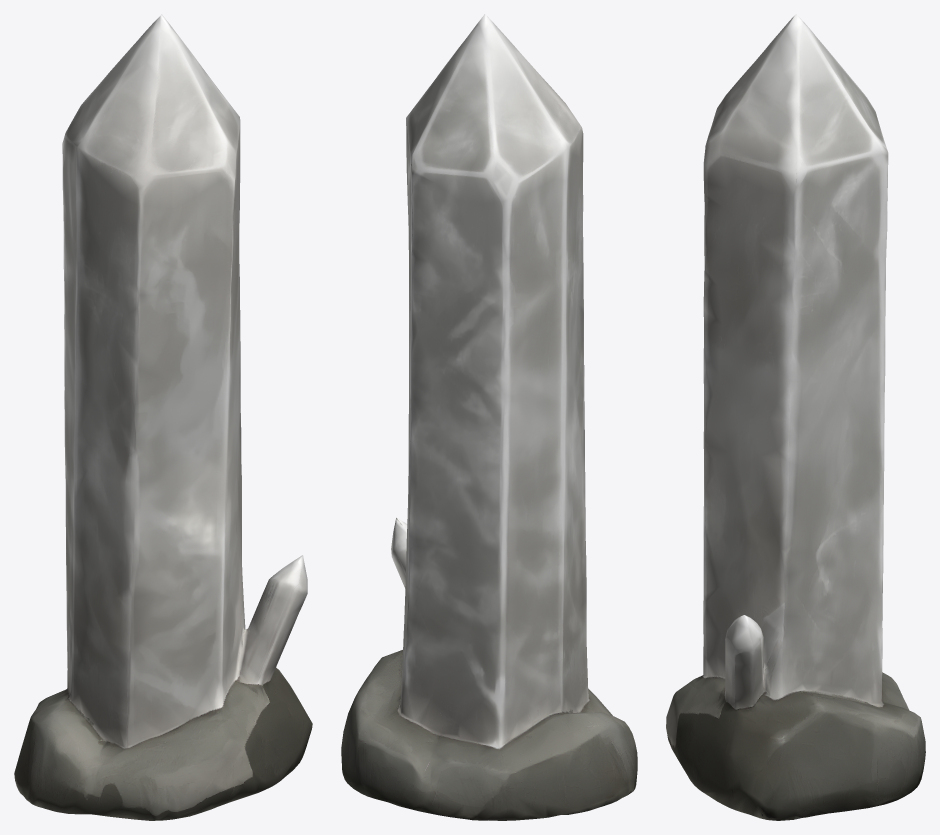
The picture shows the model from 3 angles, left to right: view 1: azimuth 30°, elevation 25°; view 2: azimuth 150°, elevation 25°; view 3: azimuth 270°, elevation 25°; orthographic projection.
Parts seen in each view (by area): view 1: Mesh_0; view 2: Mesh_0; view 3: Mesh_0.
Part boxes in pixels (left/top/right/bottom): Mesh_0: left=14, top=14, right=312, bottom=820; Mesh_0: left=341, top=14, right=637, bottom=820; Mesh_0: left=666, top=14, right=925, bottom=820.
Bounding box in the file's own units: 0.7306 × 1.91 × 0.6056.
Materials: 1 (1 with a texture image).
